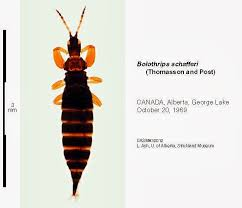Phlaeothripidae: (50, 6, 102, 202)
